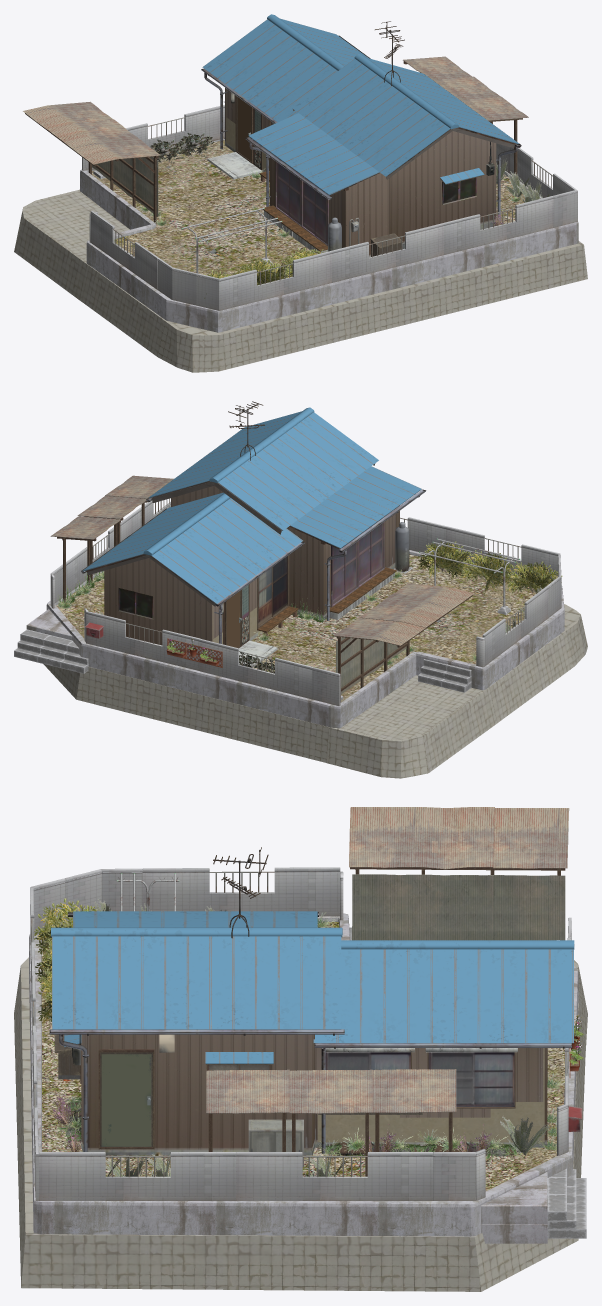
The model's file is houseset03.fbx.
3 renders of one model, top to bottom at view 1: azimuth 30°, elevation 25°; view 2: azimuth 150°, elevation 25°; view 3: azimuth 270°, elevation 25°, orthographic. The views are drawn at different scales.
Visible parts, largest first — view 1: houseset03; view 2: houseset03; view 3: houseset03.
Boxes of the visible parts, <box> form: houseset03: <box>14,14,587,372</box>; houseset03: <box>14,401,587,778</box>; houseset03: <box>14,807,587,1291</box>.
Size of the model in its own units: 1386 by 1113 by 745.
Materials: 20 (20 with a texture image).
